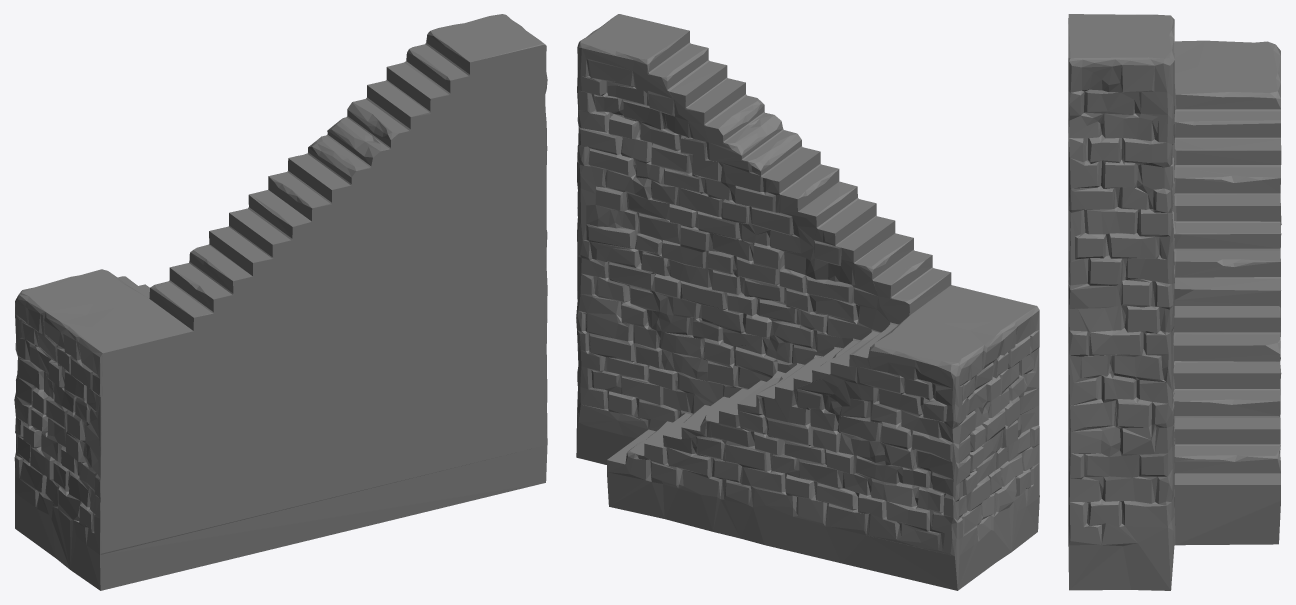
The model's file is castle_battlement_stairs_c2.FBX.
3 renders of one model, left to right at view 1: azimuth 30°, elevation 25°; view 2: azimuth 150°, elevation 25°; view 3: azimuth 270°, elevation 25°, orthographic. The views are drawn at different scales.
Visible parts, largest first — view 1: castle_battlement_stairs_c2; view 2: castle_battlement_stairs_c2; view 3: castle_battlement_stairs_c2.
Part boxes in pixels (x1,y1,x2,y2): castle_battlement_stairs_c2: (14, 14, 547, 590); castle_battlement_stairs_c2: (576, 14, 1039, 590); castle_battlement_stairs_c2: (1068, 14, 1281, 590).
Bounding box in the file's own units: 8.15 × 7.63 × 2.77.
